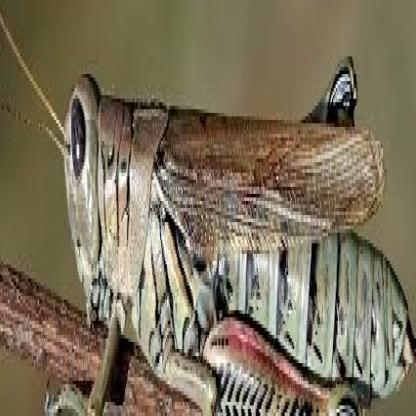grasshopper: (0, 5, 416, 416)
